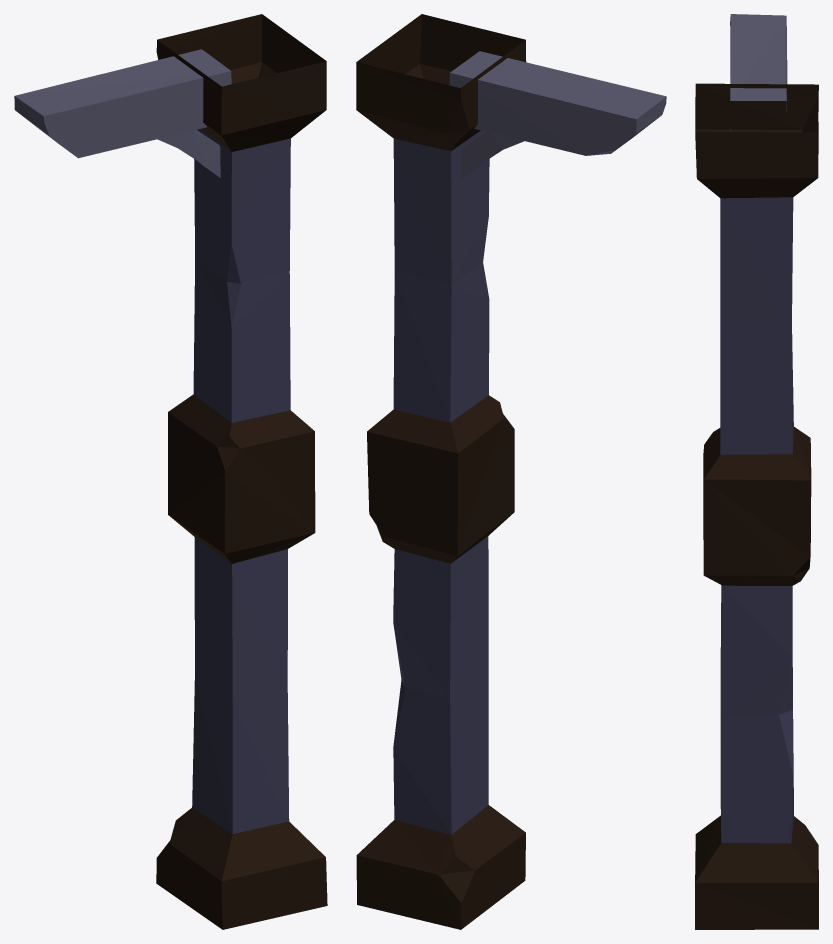
Rendered from SFFA_Table_Modular_Pillar.fbx.
The picture shows the model from 3 angles, left to right: view 1: azimuth 30°, elevation 25°; view 2: azimuth 150°, elevation 25°; view 3: azimuth 270°, elevation 25°; orthographic projection. The views are drawn at different scales.
Parts seen in each view (by area): view 1: SFFA_Table_Modular_Pillar; view 2: SFFA_Table_Modular_Pillar; view 3: SFFA_Table_Modular_Pillar.
Part boxes in pixels (bbox=[...]): SFFA_Table_Modular_Pillar: bbox=[14, 14, 327, 929]; SFFA_Table_Modular_Pillar: bbox=[356, 14, 666, 929]; SFFA_Table_Modular_Pillar: bbox=[695, 14, 818, 929].
Bounding box in the file's own units: 77.73 × 237 × 33.3.
